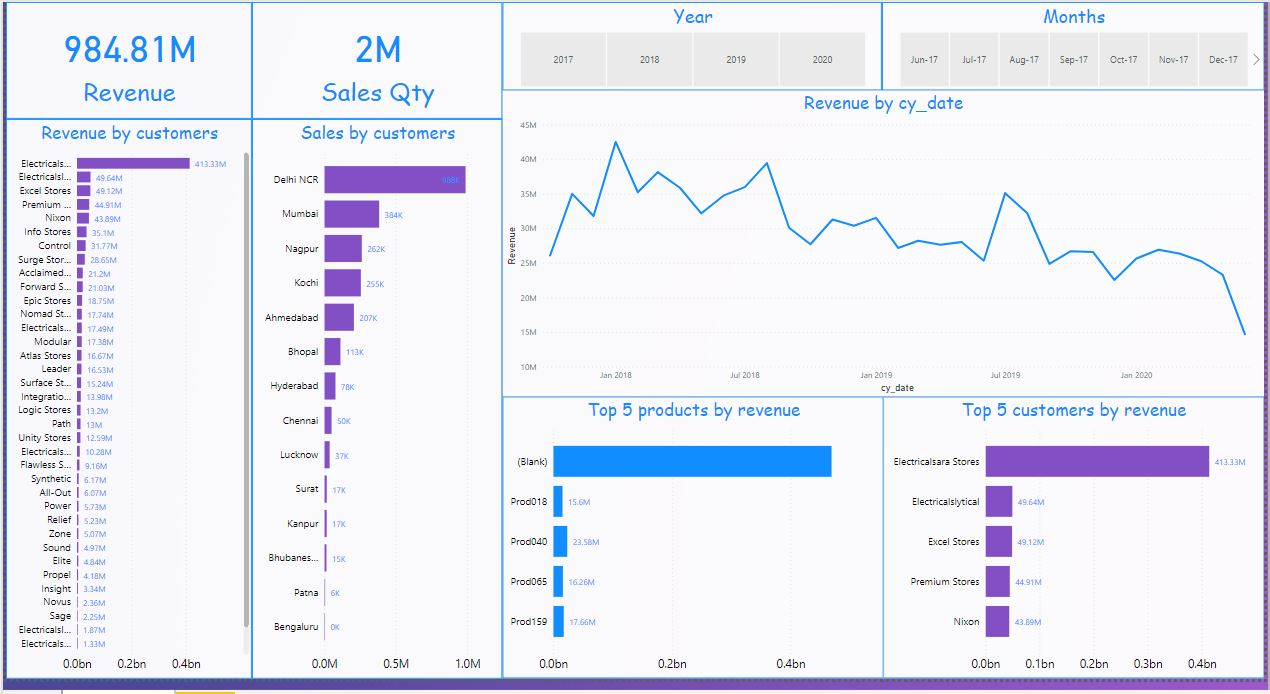

What the dashboard file says about the page in this screenshot:
{"tool":"powerbi","page":{"name":"Page 1","canvas":[1860,1000],"ordinal":0},"visuals":[{"type":"card","fields":{"Values":["BaseMeasures.Revenue"]},"box":[0,0,363.6,172.9],"z":0},{"type":"card","fields":{"Values":["BaseMeasures.Sales Qty"]},"box":[363.6,0,370.3,172.9],"z":1000},{"type":"clusteredBarChart","title":"Revenue by customers","fields":{"Y":["BaseMeasures.Revenue"],"Category":["sales customers.custmer_name"]},"box":[0,172.9,363.6,827.1],"z":2000},{"type":"slicer","title":"Months","fields":{"Values":["sales date.cy_date"]},"box":[1294.9,0,565.4,130.8],"z":4000},{"type":"slicer","title":"Year","fields":{"Values":["sales date.year"]},"box":[733.9,0,561,130.8],"z":5000},{"type":"clusteredBarChart","title":"Top 5 customers by revenue","fields":{"Y":["BaseMeasures.Revenue"],"Category":["sales customers.custmer_name"]},"box":[1294.9,583.1,565.4,416.9],"z":6000},{"type":"clusteredBarChart","title":"Top 5 products by revenue","fields":{"Y":["BaseMeasures.Revenue"],"Category":["sales products.product_code","sales date.cy_date.Variation.Date Hierarchy.Year","sales date.cy_date.Variation.Date Hierarchy.Quarter","sales date.cy_date.Variation.Date Hierarchy.Month","sales date.cy_date.Variation.Date Hierarchy.Day"]},"box":[733.9,583.1,563.2,416.9],"z":7000},{"type":"lineChart","fields":{"Y":["BaseMeasures.Revenue"],"Category":["sales date.cy_date"]},"box":[733.9,130.8,1126.4,452.3],"z":8000},{"type":"clusteredBarChart","title":"Sales by customers","fields":{"Category":["sales markets.markets_name"],"Y":["BaseMeasures.Sales Qty"]},"box":[363.6,172.9,370.3,827.1],"z":8001}]}

Visuals, with their boxes in screenshot pixels (x1, y1, x2, y2), scaled from the page's 1860x1000 canvas onto the 1270x694 screenshot:
card - BaseMeasures.Revenue: x1=0 y1=0 x2=248 y2=120
card - BaseMeasures.Sales Qty: x1=248 y1=0 x2=501 y2=120
"Revenue by customers" clusteredBarChart: x1=0 y1=120 x2=248 y2=693
"Months" slicer: x1=884 y1=0 x2=1269 y2=91
"Year" slicer: x1=501 y1=0 x2=884 y2=91
"Top 5 customers by revenue" clusteredBarChart: x1=884 y1=405 x2=1269 y2=693
"Top 5 products by revenue" clusteredBarChart: x1=501 y1=405 x2=886 y2=693
lineChart - BaseMeasures.Revenue x sales date.cy_date: x1=501 y1=91 x2=1269 y2=405
"Sales by customers" clusteredBarChart: x1=248 y1=120 x2=501 y2=693
